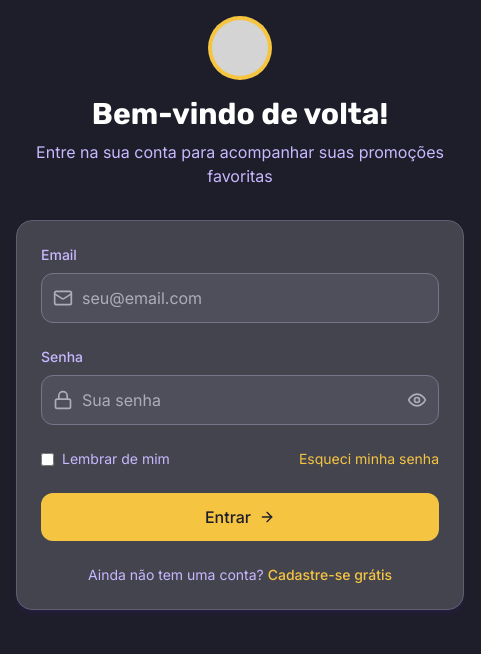
Test case: Login Page › deve mostrar erro para email inválido
# Preencher com email inválido e senha válida
Type "emailinvalido" into the field labelled "Email" at (240, 298), box [41,273,439,323]
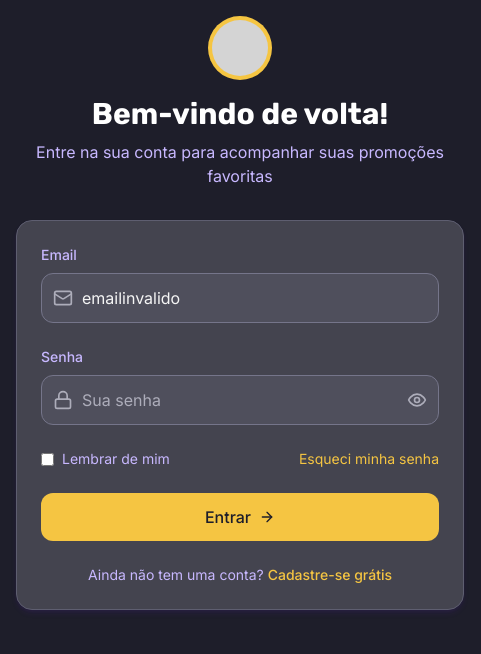
Type "123456" into the password field labelled "Senha" at (240, 400), box [41,375,439,425]
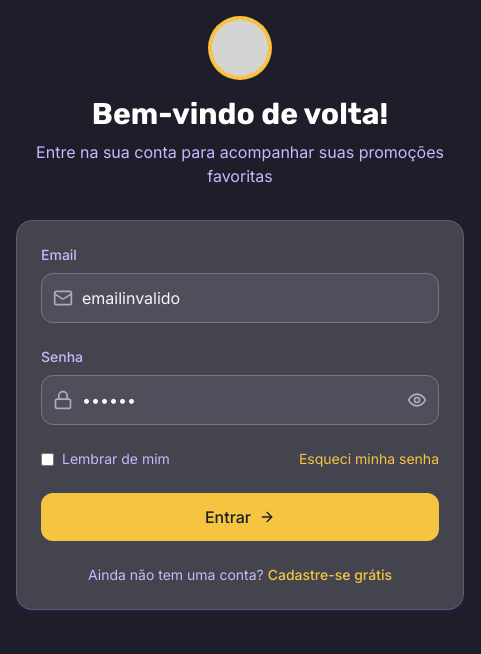
# Submeter o formulário
Submit the form "Email Senha Lembrar de mim Esqueci minha senha Entrar", box [41,245,439,541]
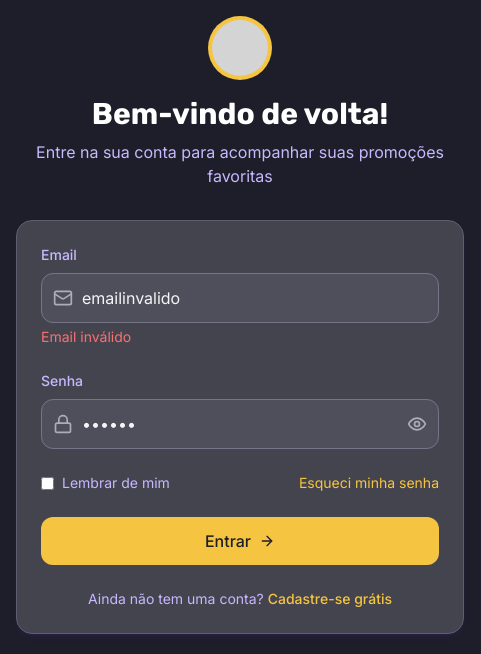
Now the text "Email inválido" is shown, box [41,328,131,345]
